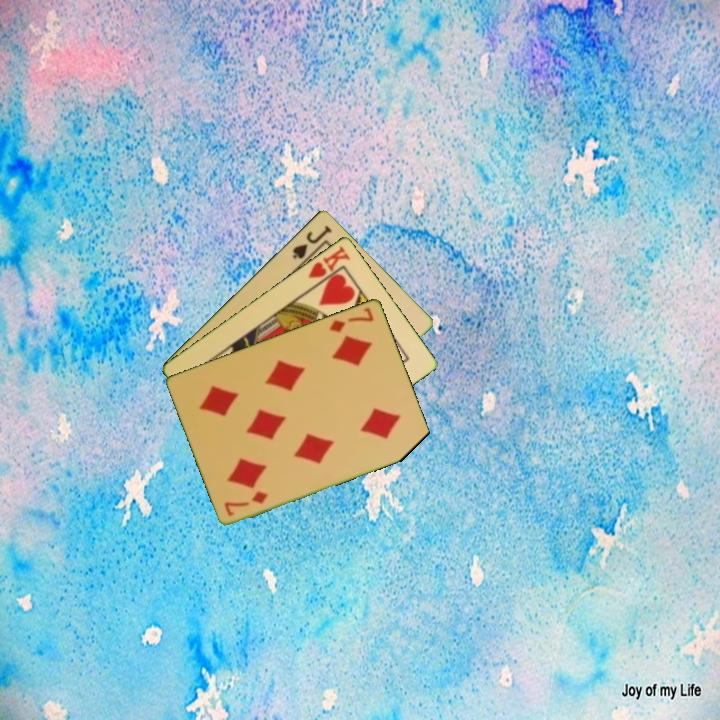7d: (326, 304, 377, 335), (221, 487, 271, 518)
Js: (288, 221, 335, 262)
Kh: (304, 242, 353, 290)
